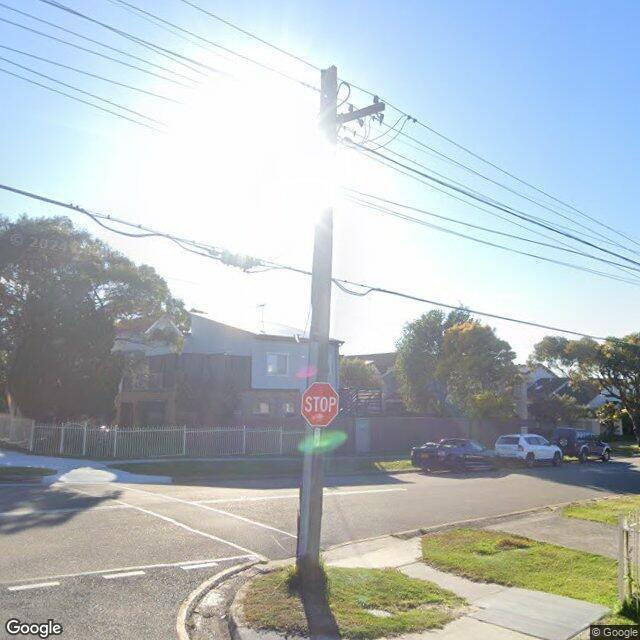crossarm: (314, 101, 386, 131)
timber-pole: (295, 64, 339, 577)
